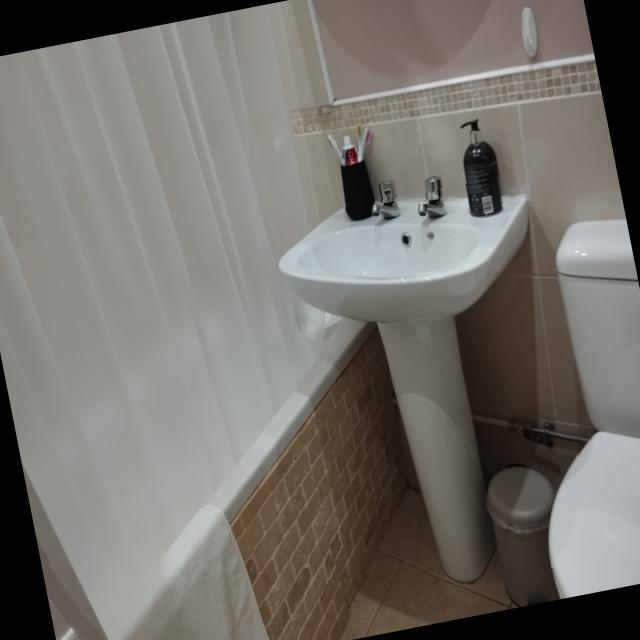bathtube: (208, 323, 410, 640)
table: (549, 220, 640, 599)
wardrobe: (279, 194, 531, 584)
